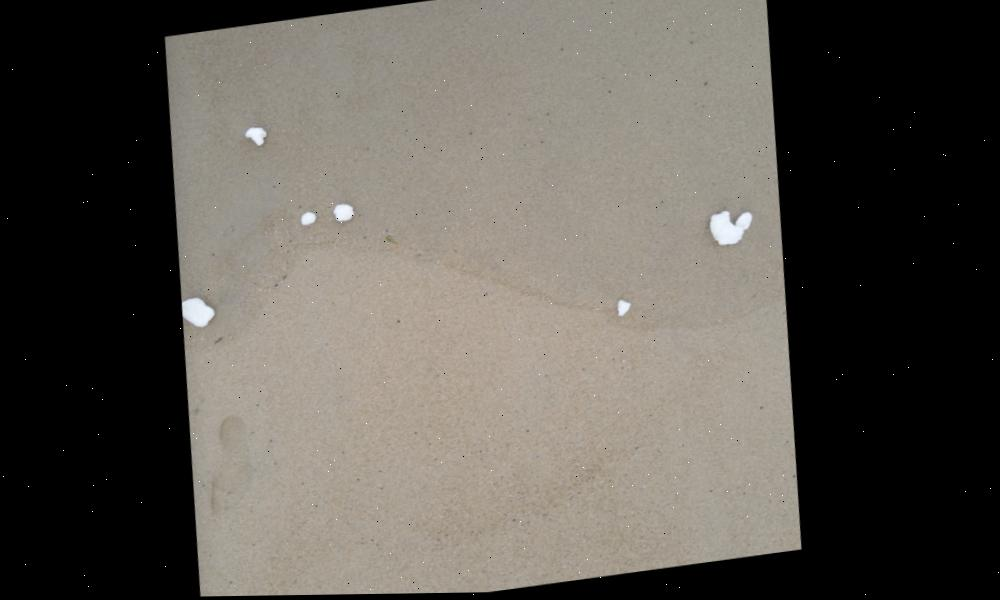styrofoam: (709, 210, 759, 249), (182, 294, 221, 330), (330, 202, 359, 223), (245, 127, 268, 145), (619, 299, 636, 317), (305, 213, 318, 226)
